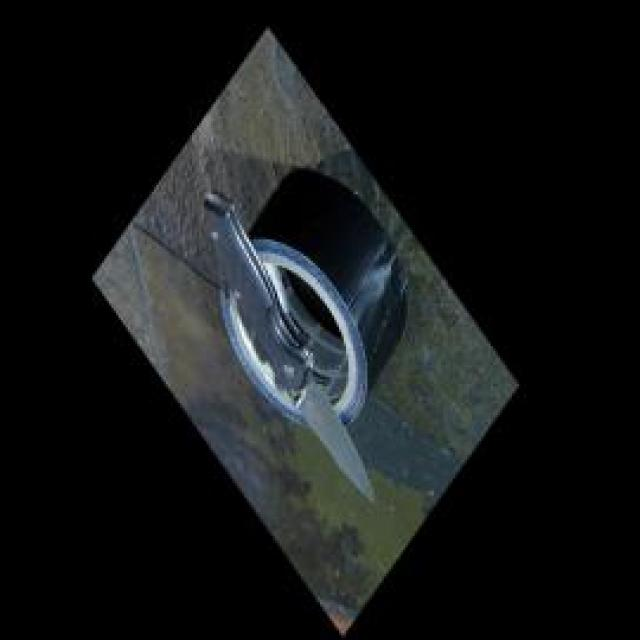knife: (199, 191, 379, 507)
